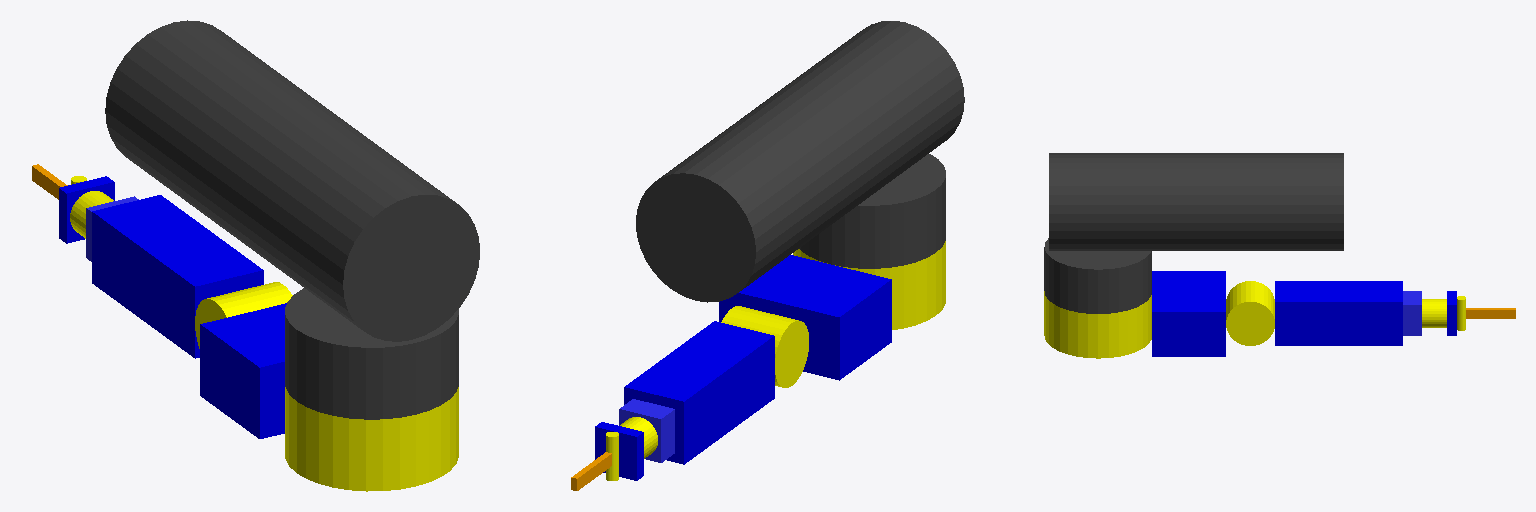
URDF robot description (third_arm):
<?xml version="1.0"?>

<robot name="third_arm">

  <!-- Third Arm has 5 joints, need many more links to make the model -->

  <link name="base_link">
    <visual>
      <origin xyz="0 0 0" rpy ="1.5708 0 0"/>
      <material name="Grey">
      <color rgba="0.3 0.3 0.3 1.0"/>
      </material>
      <geometry>
        <cylinder length="0.6" radius="0.1" />
      </geometry>
    </visual>
  </link>

  <link name="block_to_base">
    <visual>
		<origin xyz="0 0 0" rpy ="0 0  0"/>
      <material name="Gray">
       <color rgba="0.3 0.3 0.3 1.0"/>
      </material> 	
      <geometry>
        <cylinder length="0.1" radius="0.11"/>
      </geometry>
    </visual>
  </link>

  <joint name="brace_block_link" type="fixed">
  	<origin xyz="0 -0.2 -0.15" rpy="0 0 0" />
    <parent link="base_link"/>
    <child link="block_to_base"/>
  </joint>


  <link name="base_motor">
  	<inertial>
  		<origin xyz="0 0 0" rpy ="0 0 0"/>
  		<mass value="1"/>
  		<inertia ixx="100"  ixy="0"  ixz="0" iyy="100" iyz="0" izz="100" />
  	</inertial>
    <visual>
		<origin xyz="0 0 0" rpy ="0 0  0"/>
      <material name="Yellow">
       <color rgba="1.0 1.0 0.0 1.0"/>
      </material> 	
      <geometry>
        <cylinder length="0.1" radius="0.11"/>
      </geometry>
    </visual>
  </link>


  <joint name="base_to_motor1" type="revolute">
  	<axis xyz="0 0 1"/>
  	<limit lower="-3.14" upper="3.14" effort="10" velocity="0.314"/>
  	<origin xyz="0 0 -0.1" rpy="0 0 0" />
    <parent link="block_to_base"/>
    <child link="base_motor"/>
  </joint>

  <link name="swivel_link">
    <visual>
		<origin xyz="0 0 0" rpy ="0 0 0"/>
      <material name="Blue">
       <color rgba="0 0.0 1.0 1.0"/>
      </material> 	
      <geometry>
        <box size="0.2 .15 .1"/>
      </geometry>
    </visual>
  </link>

  <joint name="motor1_to_swivel_link" type="fixed">
  	<origin xyz="0 0.185 0" rpy="0 0 0" />
    <parent link="base_motor"/>
    <child link="swivel_link"/>
  </joint>

  <link name="lift_motor">
  	<inertial>
  		<origin xyz="0 0 0" rpy ="0 1.5708  0"/>
  		<mass value="1"/>
  		<inertia ixx="100"  ixy="0"  ixz="0" iyy="100" iyz="0" izz="100" />
  	</inertial>
    <visual>
		<origin xyz="0 0 0" rpy ="0 1.5708 0"/>
      <material name="Yellow">
       <color rgba="1.0 1.0 0.0 1.0"/>
      </material> 	
      <geometry>
        <cylinder length="0.1" radius="0.05"/>
      </geometry>
    </visual>
  </link>

  <joint name="swivel_to_motor2" type="revolute">
  	<axis xyz="1 0 0"/>
  	<limit lower="-1.5708" upper="1.5708" effort="10" velocity="0.314"/>
  	<origin xyz="0 0.125 0" rpy="0 0 0" />
    <parent link="swivel_link"/>
    <child link="lift_motor"/>
  </joint>

  <link name="extend_link1">
    <visual>
		<origin xyz="0 0 0" rpy ="0 0 0"/>
      <material name="Blue">
       <color rgba="0 0.0 1.0 0.1"/>
      </material> 	
      <geometry>
        <box size="0.1 .26 .1"/>
      </geometry>
    </visual>
  </link>

  <joint name="motor2_to_extend1" type="fixed">
  	<origin xyz="0 0.18 0" rpy="0 0 0" />
    <parent link="lift_motor"/>
    <child link="extend_link1"/>
  </joint>

  <link name="extend_link2">
    <visual>
		<origin xyz="0 0 0" rpy ="0 0 0"/>
      <material name="Blue2">
       <color rgba="0.2 0.2 1.0 1.0"/>
      </material> 	
      <geometry>
        <box size="0.07 .20 .07"/>
      </geometry>
    </visual>
  </link>

  <joint name="extension" type="prismatic">
  	<axis xyz="0 1 0"/>
  	<limit lower="0" upper="0.15" effort="10" velocity="5"/>
  	<origin xyz="0 0.07 0" rpy="0 0 0" />
    <parent link="extend_link1"/>
    <child link="extend_link2"/>
  </joint>


  <link name="wrist_motor">
  	<inertial>
  		<origin xyz="0 0 0" rpy =" 1.5708 0  0"/>
  		<mass value="1"/>
  		<inertia ixx="100"  ixy="0"  ixz="0" iyy="100" iyz="0" izz="100" />
  	</inertial>
    <visual>
		<origin xyz="0 0 0" rpy ="1.5708 0 0"/>
      <material name="Yellow">
       <color rgba="1.0 1.0 0.0 1.0"/>
      </material> 	
      <geometry>
        <cylinder length="0.05" radius="0.03"/>
      </geometry>
    </visual>
  </link>

  <joint name="wrist_motor_to_extension" type="revolute">
  	<axis xyz="0 1 0"/>
  	<limit lower="-1.5708" upper="1.5708" effort="5" velocity="0.5"/>
  	<origin xyz="0 0.125 0" rpy="0 0 0" />
    <parent link="extend_link2"/>
    <child link="wrist_motor"/>
  </joint>

  <link name="wrist_plate">
    <visual>
		<origin xyz="0 0 0" rpy ="0 0 0"/>
      <material name="Blue">
       <color rgba="0.0 0.0 1.0 1.0"/>
      </material> 	
      <geometry>
        <box size="0.07 .02 .07"/>
      </geometry>
    </visual>
  </link>

  <joint name="wrist_motor_to_plate" type="fixed">
  	<origin xyz="0 0.035 0" rpy="0 0 0" />
    <parent link="wrist_motor"/>
    <child link="wrist_plate"/>
  </joint>

  <link name="gripper_motor">
  	<inertial>
  		<origin xyz="0 0 0" rpy =" 1.5708 0  0"/>
  		<mass value="1"/>
  		<inertia ixx="100"  ixy="0"  ixz="0" iyy="100" iyz="0" izz="100" />
  	</inertial>
    <visual>
		<origin xyz="0 0 0" rpy ="0 0 0"/>
      <material name="Yellow">
       <color rgba="1.0 1.0 0.0 1.0"/>
      </material> 	
      <geometry>
        <cylinder length="0.07" radius="0.01"/>
      </geometry>
    </visual>
  </link>

  <joint name="gripper_motor_to_plate" type="fixed">
  	<origin xyz="0 0.02 0" rpy="0 0 0" />
    <parent link="wrist_plate"/>
    <child link="gripper_motor"/>
  </joint>

  <link name="finger1">
  	<inertial>
  		<origin xyz="0 0.06 0" rpy =" 0 0  0"/>
  		<mass value="1"/>
  		<inertia ixx="100"  ixy="0"  ixz="0" iyy="100" iyz="0" izz="100" />
  	</inertial>  	
    <visual>
		<origin xyz="0 0.06 0" rpy ="0 0 0"/>
      <material name="Orange1">
       <color rgba="1.0 0.65 0.0 1.0"/>
      </material> 	
      <geometry>
        <box size="0.01 .1 .02"/>
      </geometry>
    </visual>
  </link>

  <joint name="finger1_to_gripper_motor" type="revolute">
  	<axis xyz="0 0 1"/>
  	<limit lower="0" upper="1" effort="5" velocity="0.5"/>
  	<origin xyz="0 0 0" rpy="0 0 0" />
    <parent link="gripper_motor"/>
    <child link="finger1"/>
  </joint>

  <link name="finger2">
  	<inertial>
  		<origin xyz="0 0.06 0" rpy =" 0 0  0"/>
  		<mass value="1"/>
  		<inertia ixx="100"  ixy="0"  ixz="0" iyy="100" iyz="0" izz="100" />
  	</inertial>
    <visual>
		<origin xyz="0 0.06 0" rpy ="0 0 0"/>
      <material name="Orange2">
       <color rgba="1.0 0.55 0.0 1.0"/>
      </material> 	
      <geometry>
        <box size="0.01 .1 .02"/>
      </geometry>
    </visual>
  </link>

  <joint name="finger2_to_gripper_motor" type="revolute">
  	<axis xyz="0 0 1"/>
  	<limit lower="-1" upper="0" effort="5" velocity="0.5"/>
  	<origin xyz="0 0 0" rpy="0 0 0" />
  	<mimic joint="finger1_to_gripper_motor" multiplier="-1" />
    <parent link="gripper_motor"/>
    <child link="finger2"/>
  </joint>

</robot>

--- Render facts (derived) ---
3 views of the same robot in one strip: view 1: azimuth 30°, elevation 25°; view 2: azimuth 150°, elevation 25°; view 3: azimuth 270°, elevation 25° (orthographic).
Robot: third_arm — 12 links, 11 joints (5 revolute, 1 prismatic, 5 fixed); root link base_link; default pose: all joints at 0.
Visible links, largest first — view 1: base_link, block_to_base, extend_link1, base_motor, swivel_link, lift_motor, wrist_plate, wrist_motor, finger1, extend_link2; view 2: base_link, extend_link1, swivel_link, block_to_base, base_motor, lift_motor, extend_link2, wrist_plate, finger1, wrist_motor, gripper_motor; view 3: base_link, extend_link1, swivel_link, block_to_base, base_motor, lift_motor, extend_link2, wrist_motor, finger1.
Boxes of the visible links, <box> form: base_link: <box>105,20,479,341</box>; block_to_base: <box>285,288,458,419</box>; extend_link1: <box>92,195,263,358</box>; base_motor: <box>285,387,458,491</box>; swivel_link: <box>200,303,286,438</box>; lift_motor: <box>195,282,292,348</box>; wrist_plate: <box>59,176,114,243</box>; wrist_motor: <box>70,191,113,238</box>; finger1: <box>32,164,67,199</box>; extend_link2: <box>86,196,138,261</box>; base_link: <box>636,21,964,302</box>; extend_link1: <box>624,321,774,464</box>; swivel_link: <box>719,255,891,380</box>; block_to_base: <box>799,154,945,268</box>; base_motor: <box>793,241,945,329</box>; lift_motor: <box>721,306,808,387</box>; extend_link2: <box>619,399,674,462</box>; wrist_plate: <box>595,422,643,480</box>; finger1: <box>571,452,611,490</box>; wrist_motor: <box>620,417,657,458</box>; gripper_motor: <box>606,432,618,480</box>; base_link: <box>1049,153,1343,250</box>; extend_link1: <box>1275,281,1402,345</box>; swivel_link: <box>1152,271,1225,356</box>; block_to_base: <box>1044,238,1151,313</box>; base_motor: <box>1044,291,1151,358</box>; lift_motor: <box>1226,281,1274,345</box>; extend_link2: <box>1403,291,1421,335</box>; wrist_motor: <box>1422,299,1446,327</box>; finger1: <box>1466,308,1515,318</box>.
Size in the robot's own frame: 0.22 by 0.96 by 0.4 metres.
Geometry: primitives only (box / cylinder / sphere), no mesh files.